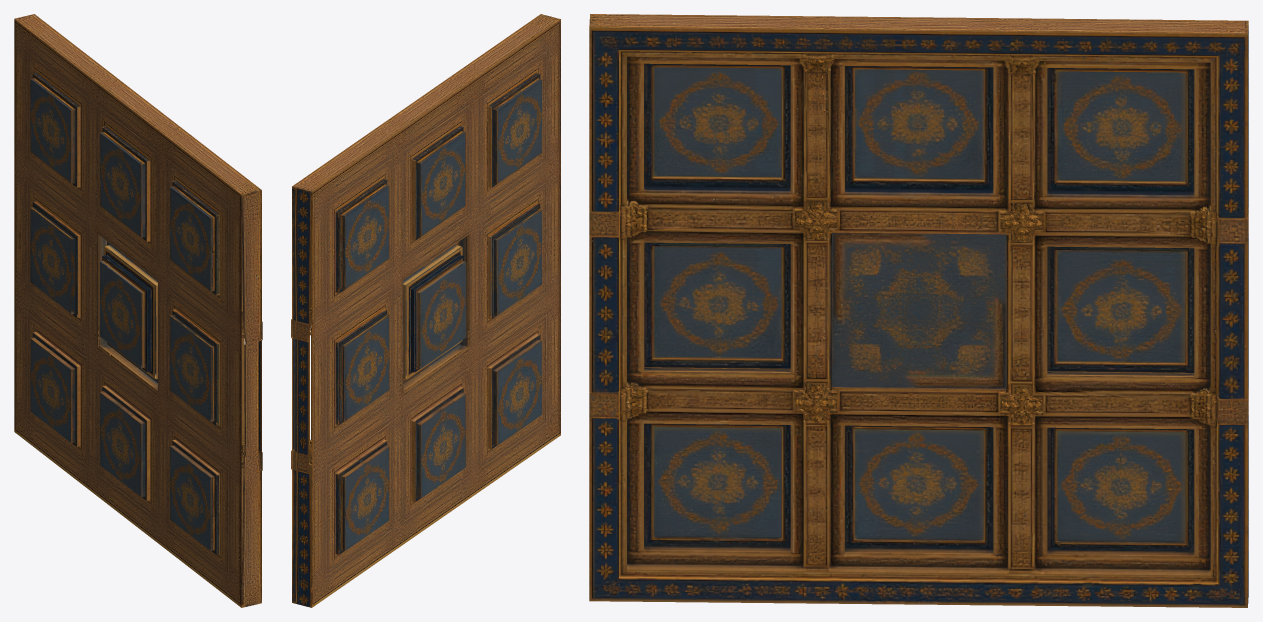
The model's file is سقف المجلس.glb.
3 renders of one model, left to right at view 1: azimuth 30°, elevation 25°; view 2: azimuth 150°, elevation 25°; view 3: azimuth 270°, elevation 25°, orthographic. The views are drawn at different scales.
Visible parts, largest first — view 1: tripo_node_dbe5ace6-9b09-4bdc-977a-6bf0268faf9d; view 2: tripo_node_dbe5ace6-9b09-4bdc-977a-6bf0268faf9d; view 3: tripo_node_dbe5ace6-9b09-4bdc-977a-6bf0268faf9d.
Part boxes in pixels (x1,y1,x2,y2): tripo_node_dbe5ace6-9b09-4bdc-977a-6bf0268faf9d: (14, 14, 262, 607); tripo_node_dbe5ace6-9b09-4bdc-977a-6bf0268faf9d: (291, 14, 560, 607); tripo_node_dbe5ace6-9b09-4bdc-977a-6bf0268faf9d: (589, 14, 1248, 607).
Bounding box in the file's own units: 0.0937 × 1 × 1.04.
Materials: 1 (1 with a texture image).
